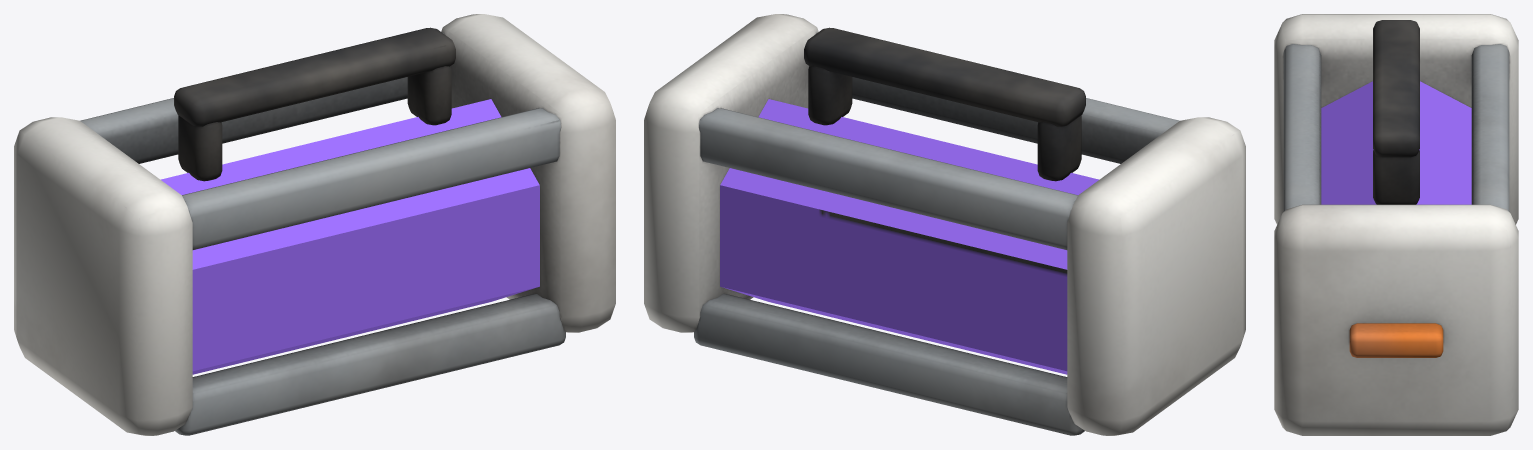
Rendered from ammo_cell.fbx.
The picture shows the model from 3 angles, left to right: view 1: azimuth 30°, elevation 25°; view 2: azimuth 150°, elevation 25°; view 3: azimuth 270°, elevation 25°; orthographic projection. The views are drawn at different scales.
Parts seen in each view (by area): view 1: Body, Glow; view 2: Body, Glow; view 3: Body, Glow.
Boxes of the visible parts, x1=… form: Body: x1=14, y1=14, x2=615, y2=435; Glow: x1=161, y1=99, x2=539, y2=374; Body: x1=644, y1=14, x2=1245, y2=435; Glow: x1=720, y1=99, x2=1098, y2=374; Body: x1=1274, y1=14, x2=1518, y2=435; Glow: x1=1321, y1=81, x2=1471, y2=204.
Bounding box in the file's own units: 0.59 × 0.31 × 0.26.
Materials: 1 (1 with a texture image).
